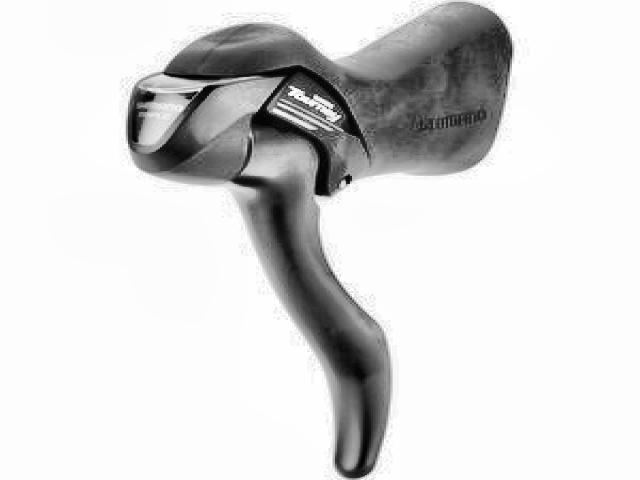sti_shifter: (122, 2, 504, 472)
